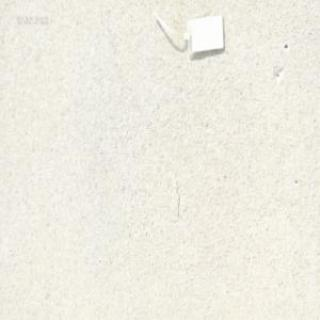LuggageTagtrack_idkeyframe: (147, 6, 225, 56)
